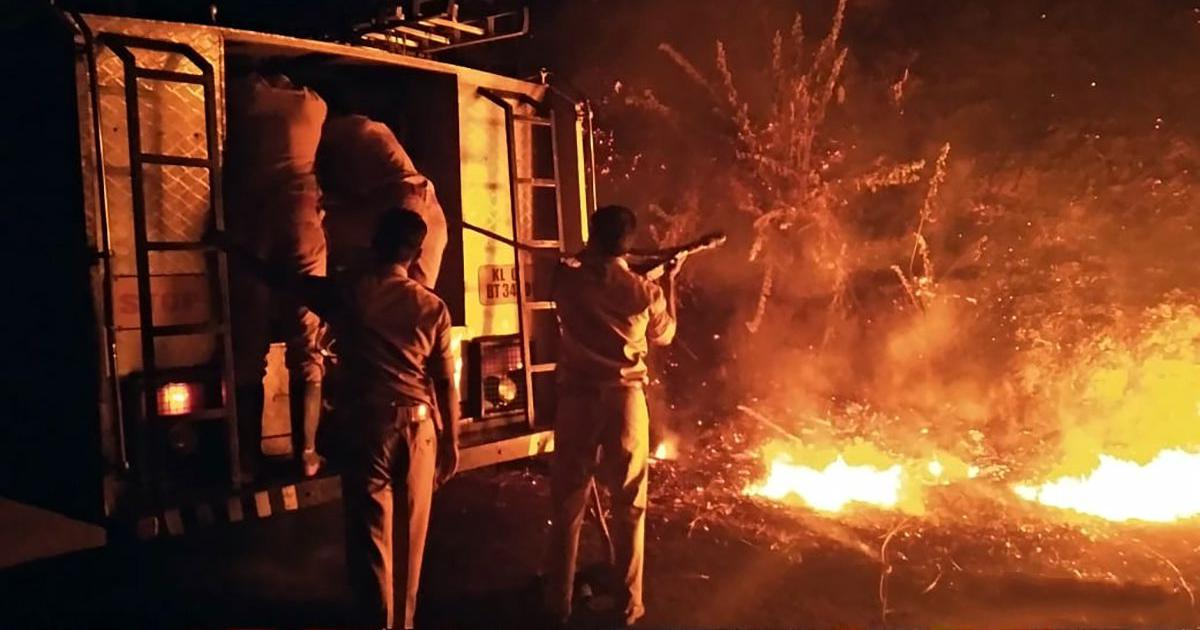fire: (1015, 458, 1200, 515), (761, 452, 908, 508)
